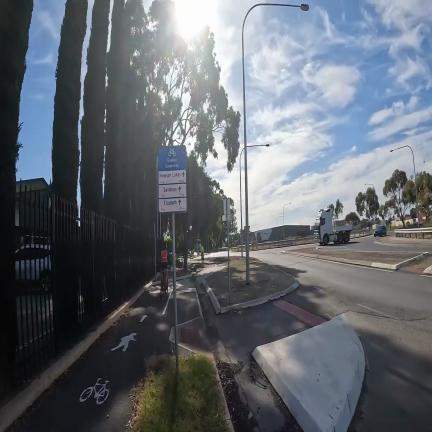Bike_Lane: (8, 286, 173, 432), (179, 280, 198, 322)
Bike_Sign: (157, 146, 187, 240)
